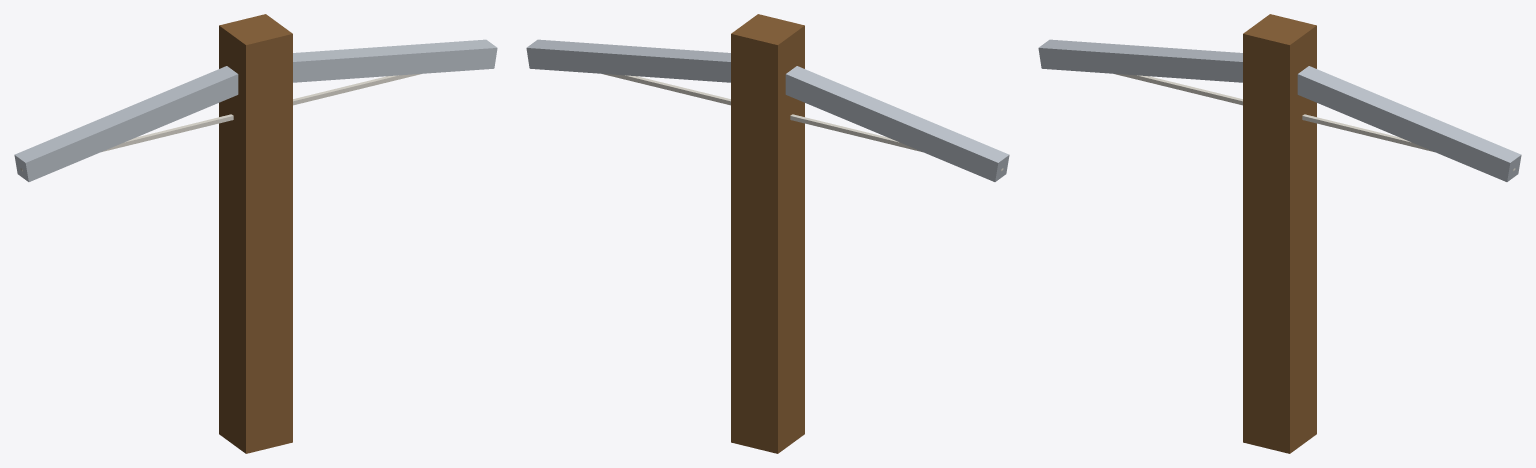
The model's file is conquistador-crossbow.glb.
The picture shows the model from 3 angles, left to right: view 1: azimuth 30°, elevation 25°; view 2: azimuth 150°, elevation 25°; view 3: azimuth 330°, elevation 25°; orthographic projection.
Visible parts, largest first — view 1: Stock, BowLeft, BowRight, String; view 2: Stock, BowLeft, BowRight, String; view 3: Stock, BowRight, BowLeft, String.
Boxes of the visible parts, <box> form: Stock: <box>219,14,292,453</box>; BowLeft: <box>14,66,238,181</box>; BowRight: <box>293,39,497,82</box>; String: <box>20,73,422,171</box>; Stock: <box>731,14,804,453</box>; BowLeft: <box>785,66,1009,181</box>; BowRight: <box>526,39,730,82</box>; String: <box>601,73,1003,171</box>; Stock: <box>1243,14,1316,453</box>; BowRight: <box>1297,66,1521,181</box>; BowLeft: <box>1038,39,1242,82</box>; String: <box>1113,73,1515,171</box>.
Size of the model in its own units: 0.6041 by 0.5 by 0.06.
